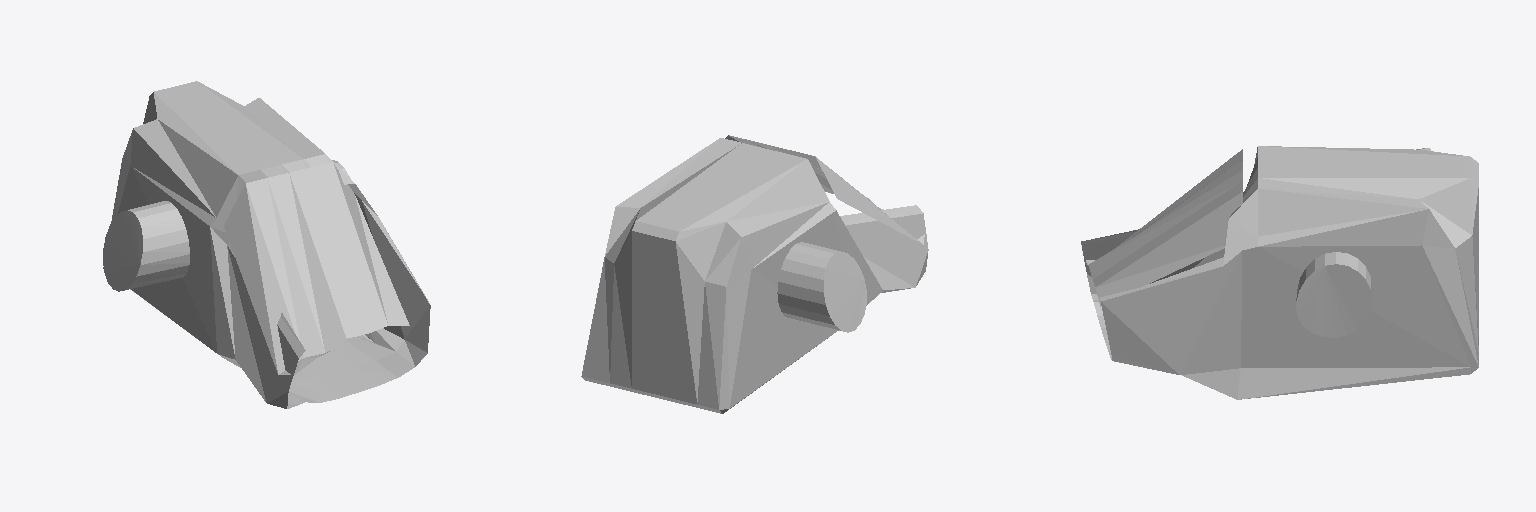
The model's file is vragfifth3.obj.
The picture shows the model from 3 angles: view 1: azimuth 30°, elevation 25°; view 2: azimuth 150°, elevation 25°; view 3: azimuth 270°, elevation 25°; orthographic projection.
Parts seen in each view (by area): view 1: vrag.001; view 2: vrag.001; view 3: vrag.001.
Boxes of the visible parts, x1,y1,x2,y2 form: vrag.001: [103, 81, 430, 408]; vrag.001: [581, 135, 928, 413]; vrag.001: [1081, 146, 1478, 399].
Size of the model in its own units: 5.18 by 4.14 by 7.77.